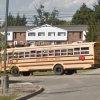Bus: (2, 42, 99, 76)
